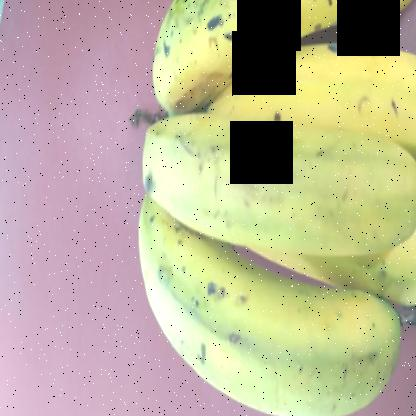ripe: (111, 75, 416, 276), (132, 200, 413, 415), (157, 1, 415, 115)
